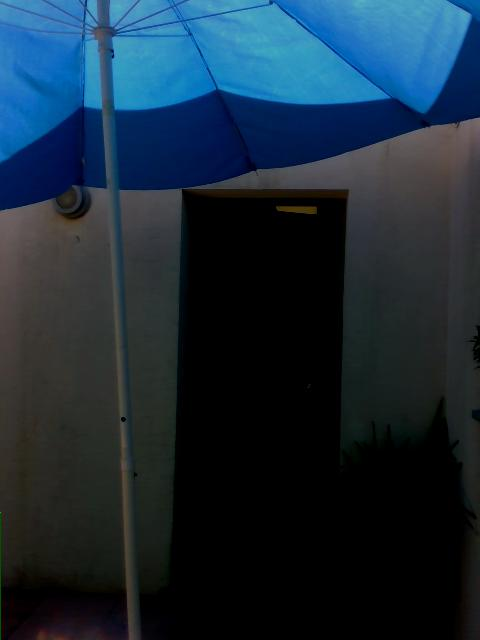semi_door: (172, 187, 346, 576)
